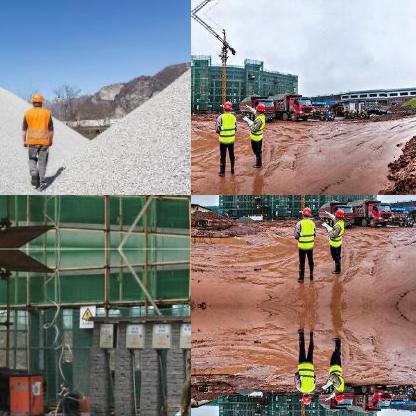Helmet: (28, 88, 44, 106), (220, 98, 232, 112), (300, 204, 310, 218), (334, 206, 344, 218), (300, 392, 310, 404), (334, 392, 344, 402), (256, 100, 264, 112)
